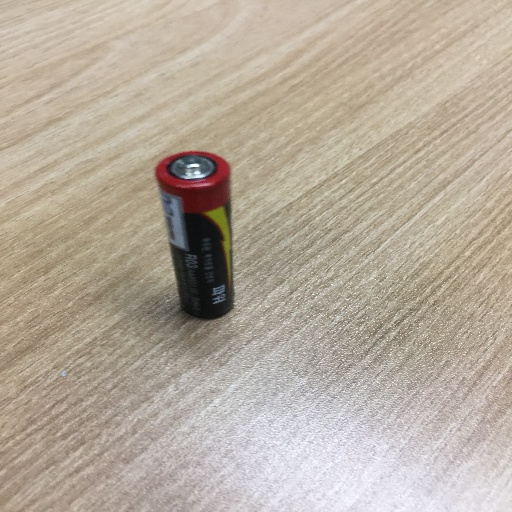Battery_0: (145, 140, 245, 328)
